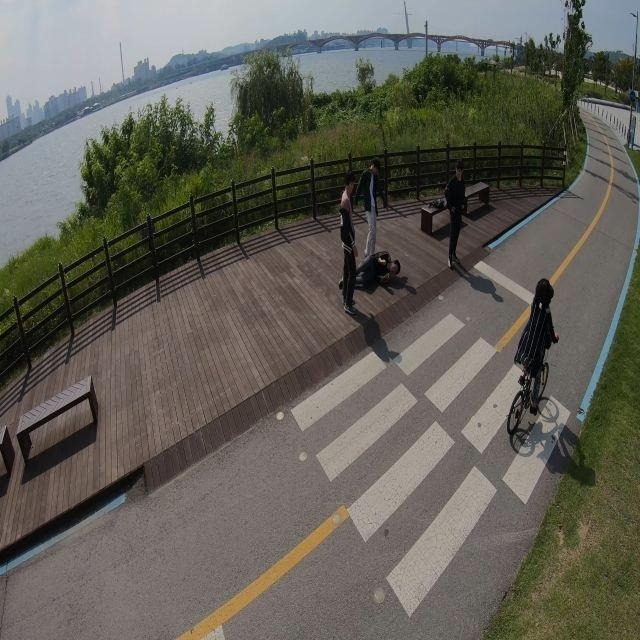fight: (338, 152, 401, 292)
non-fight: (512, 272, 562, 427), (337, 179, 360, 314), (442, 162, 466, 270)
